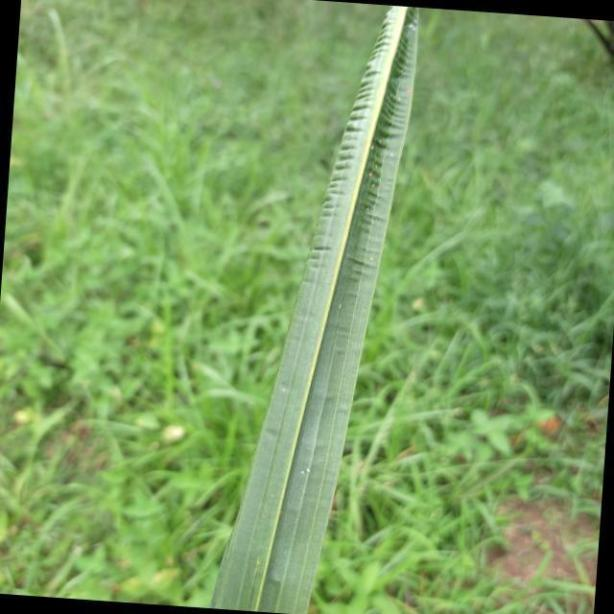Boron: (206, 0, 424, 614)
